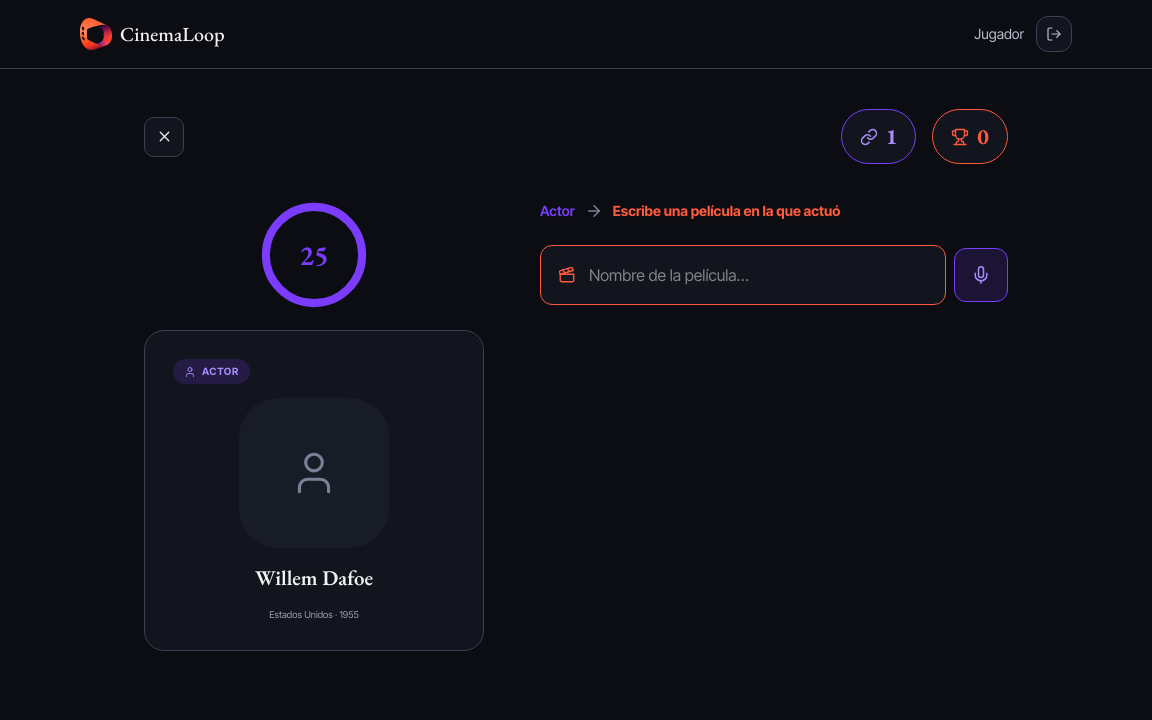
it: PartidaPage › confirmación manual de ambigüedad (CIN-23) › elegir un candidato reenvía submitAnswer con el mismo tiempo de respuesta y el candidato_id elegido
The image size is (1152, 720).
Type "Ambigua" into the field with placeholder "Nombre de la película…".
click(743, 275); type("Ambigua")  # box [540,245,946,305]
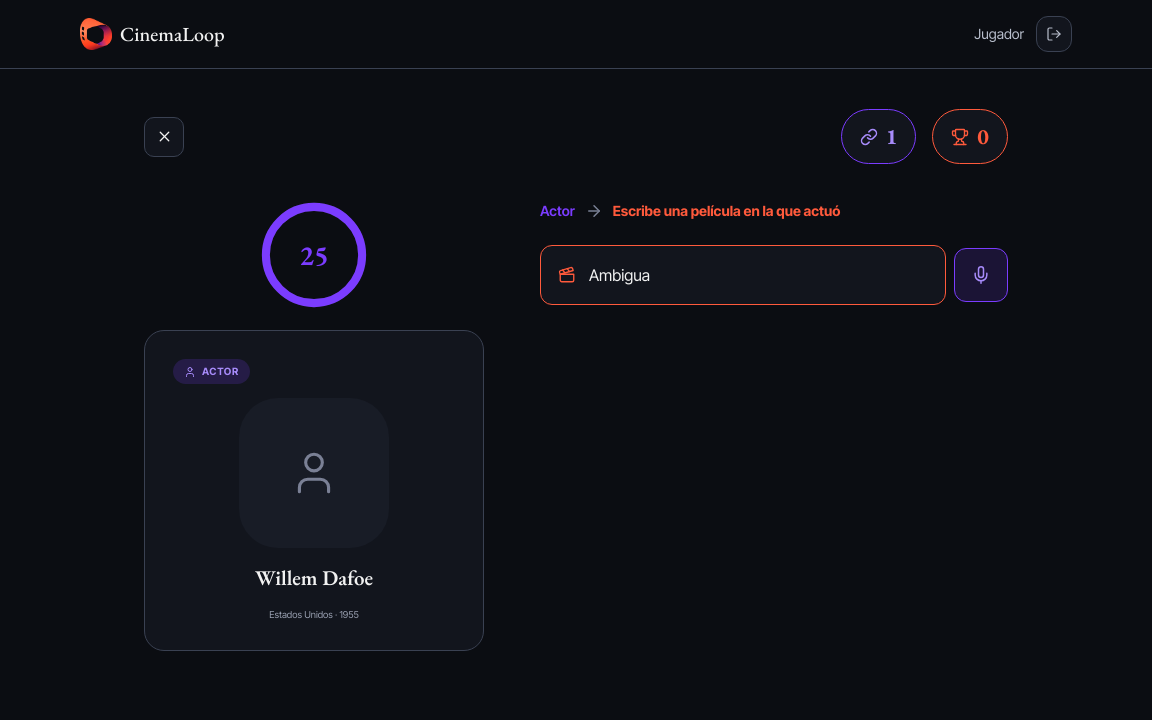
Submit the form with placeholder "Nombre de la película…", box [540,245,1008,305]
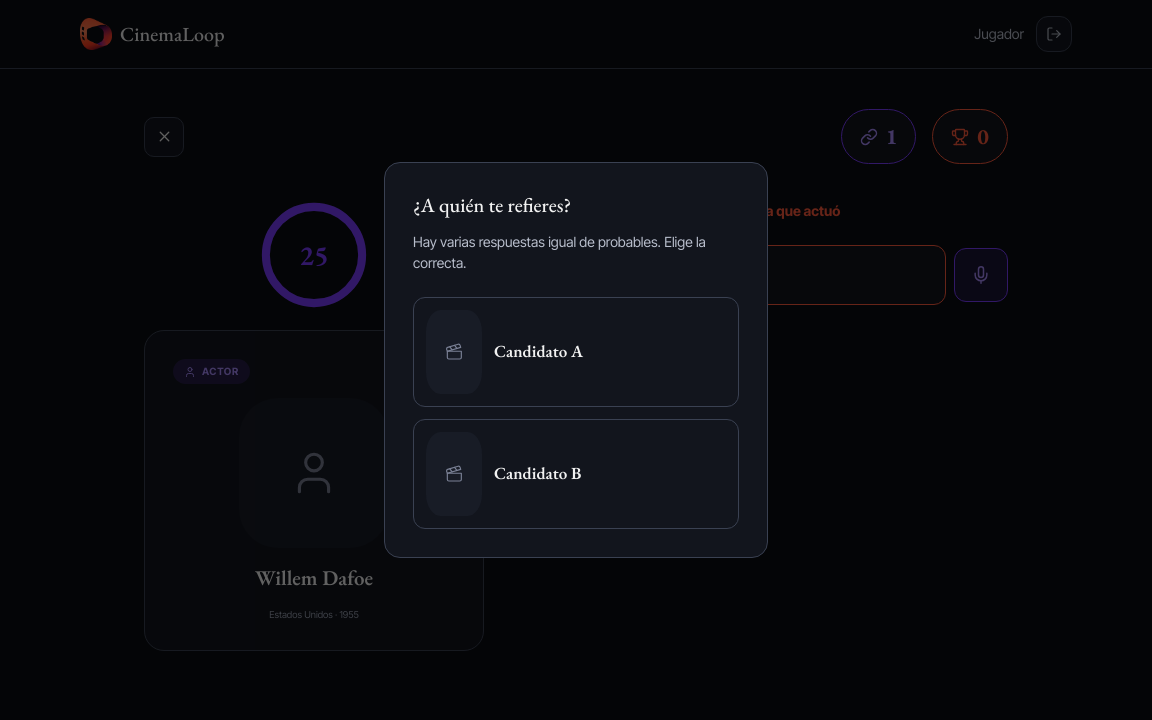
Expected: the dialog is shown
Click the button "Candidato B".
click(576, 474)  # box [413,419,739,529]
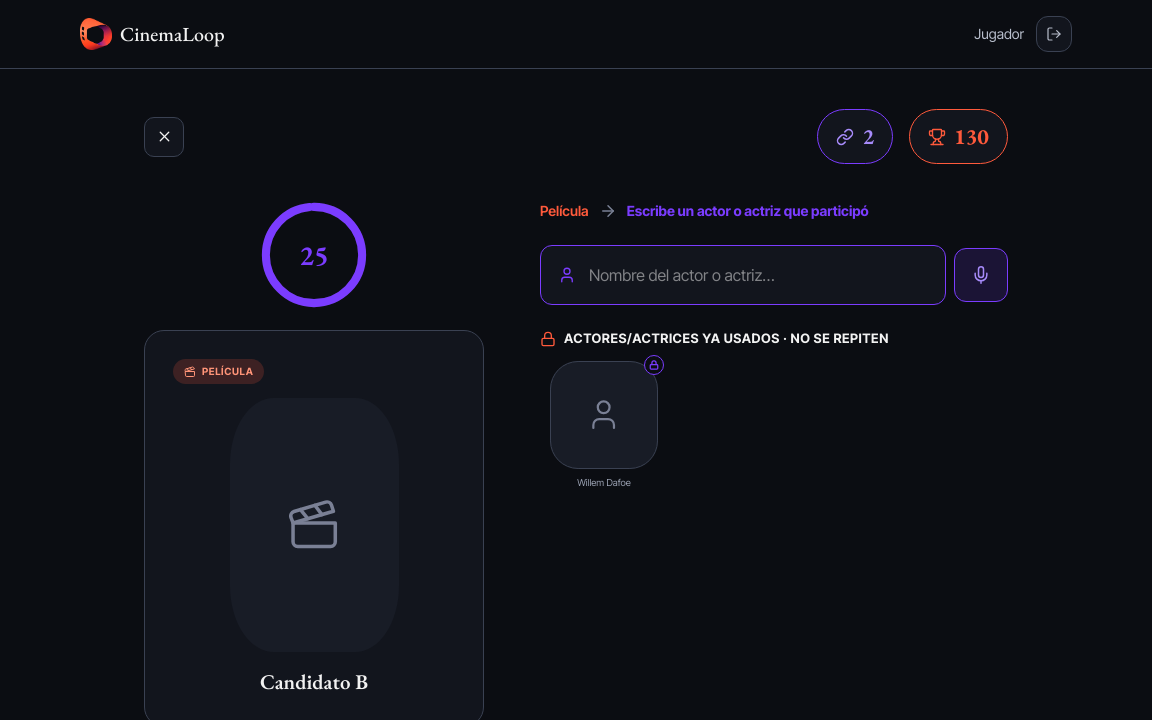
Expected: the text "130" is shown, [954,120,989,153]
Expected: the dialog is gone
